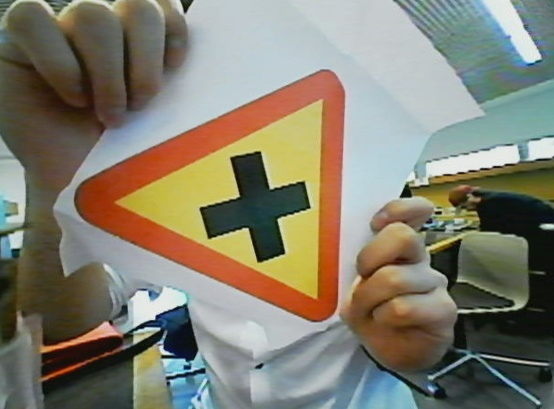junction: (88, 73, 349, 331)
